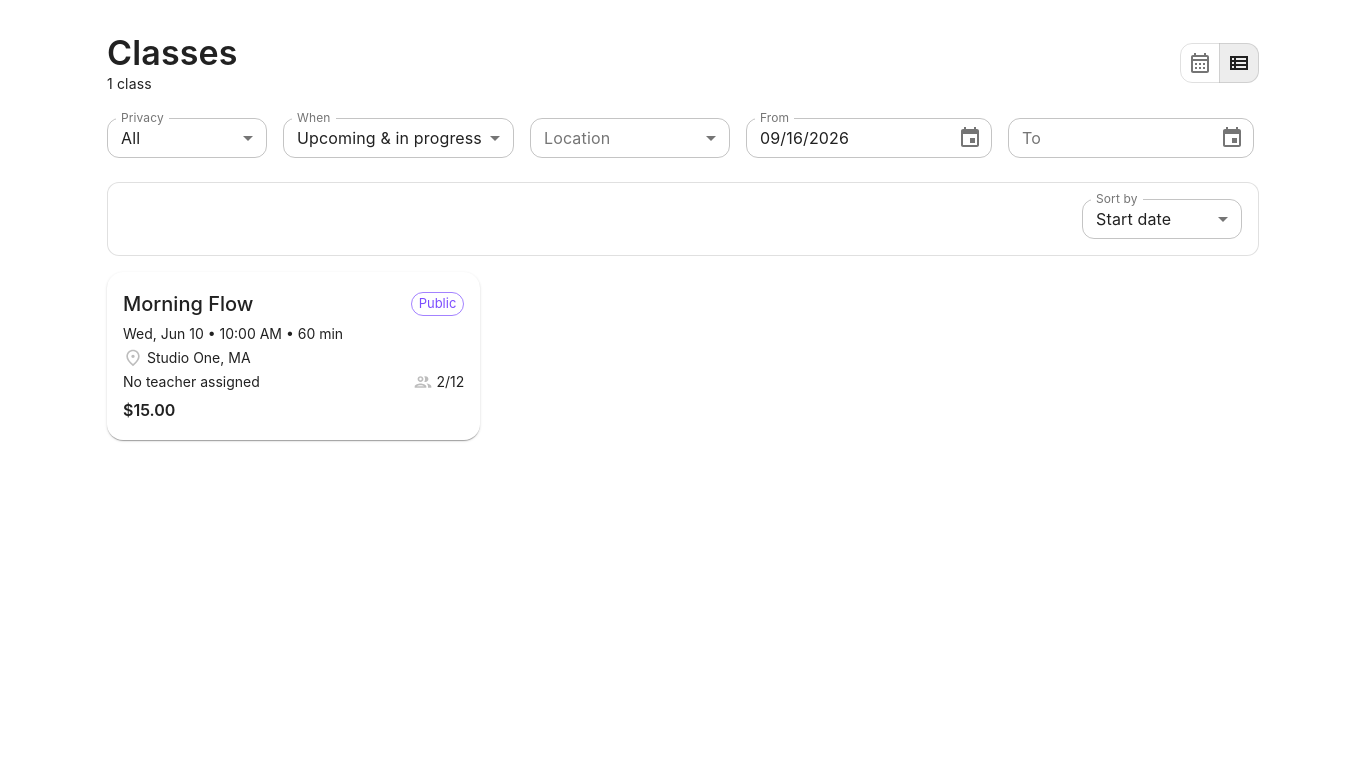
Test: ClassBrowser › shows filtered classes and opens their modal
Expected: the text "1 class" is shown, [107,75,152,92]
What coordinates should you click on to do the following:
click the heading "Morning Flow"
I would click on:
 (188, 304)
Its box is [123,288,253,320].
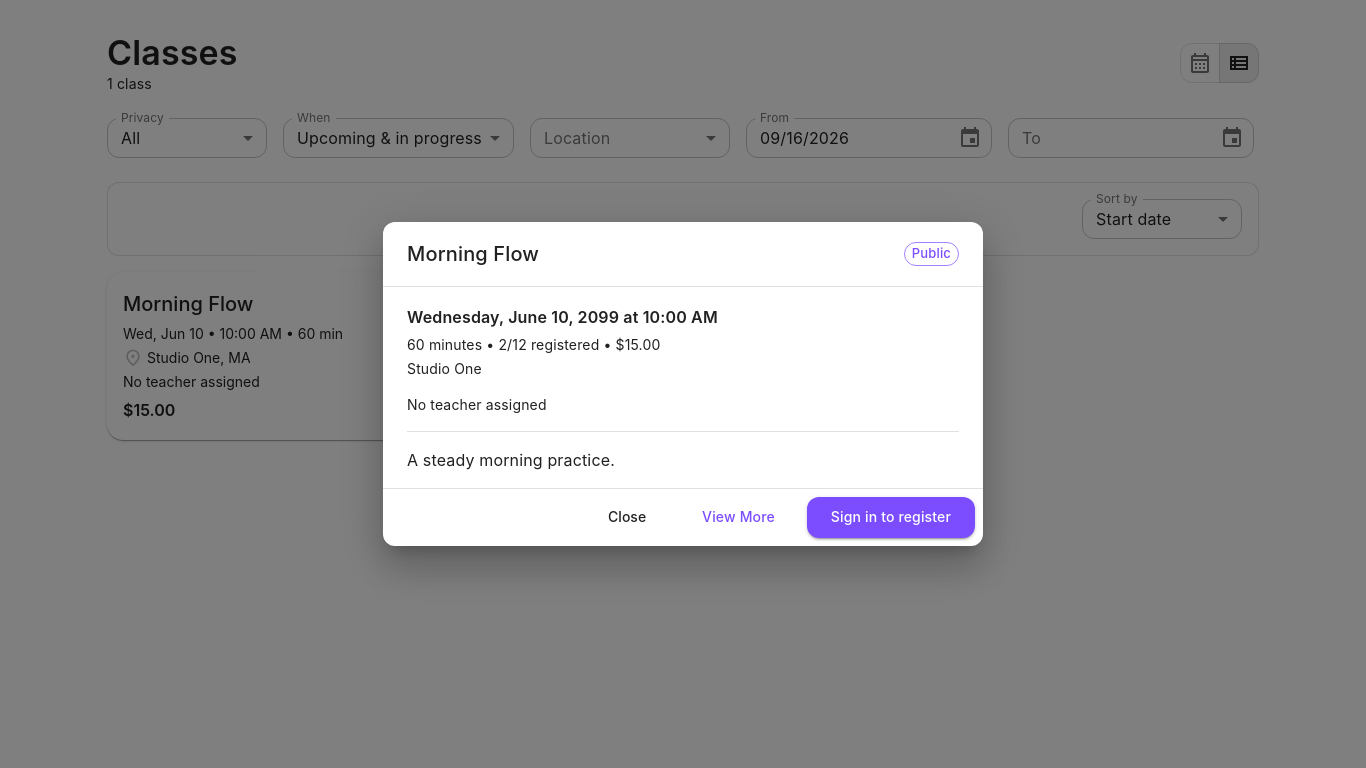
Result: the dialog "Morning Flow" is shown at [383,222,983,546]
Result: the link "Sign in to register" is shown at [807,497,975,538]
